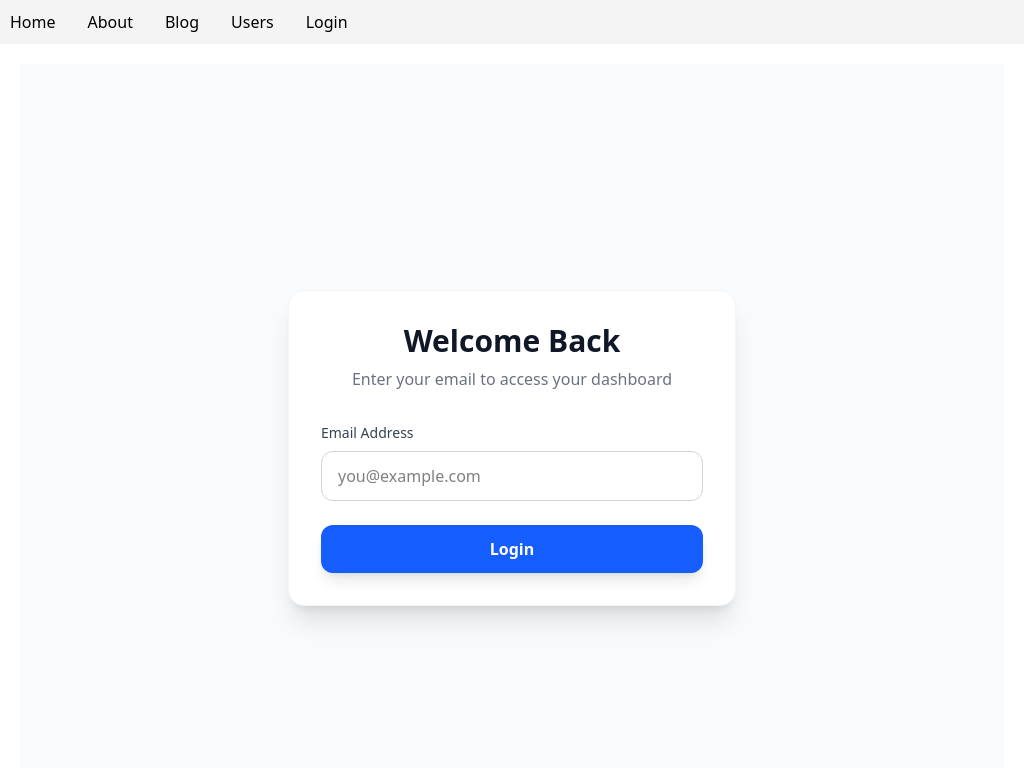
Scenario: should log in successfully and show dynamic welcome message
Step 1. Type "bashar@bmDragon.com" into the field labelled "Email Address" → (512, 476), box x1=321 y1=451 x2=703 y2=501
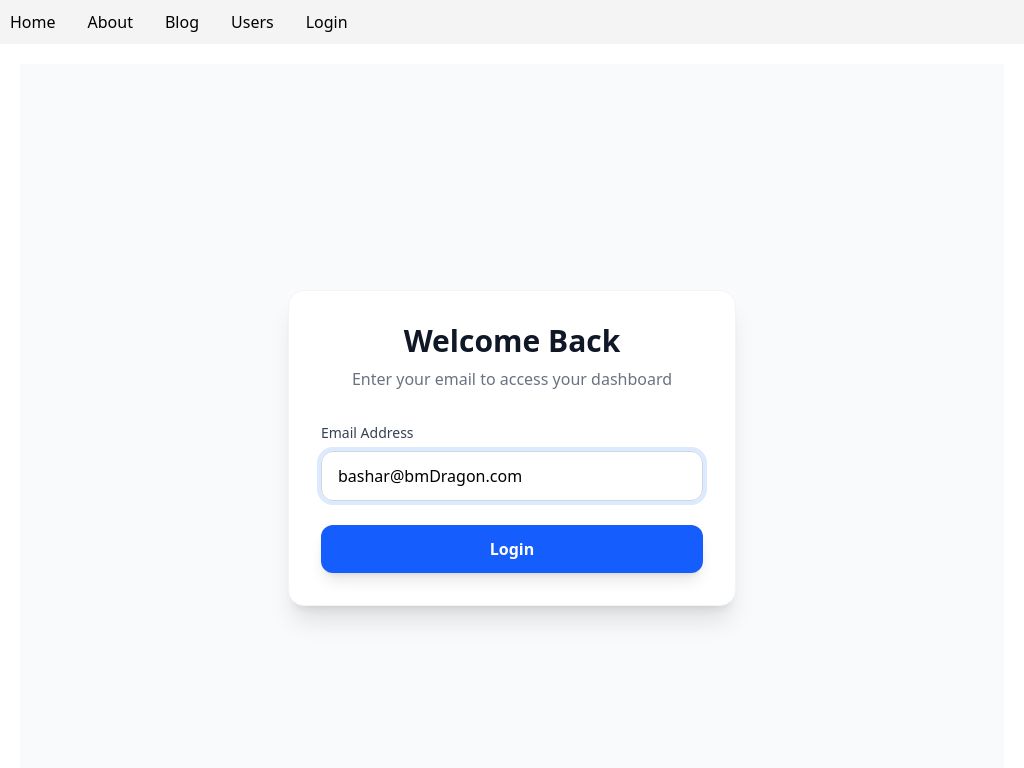
Step 2. Click the button "Login" → (512, 549), box x1=321 y1=525 x2=703 y2=573
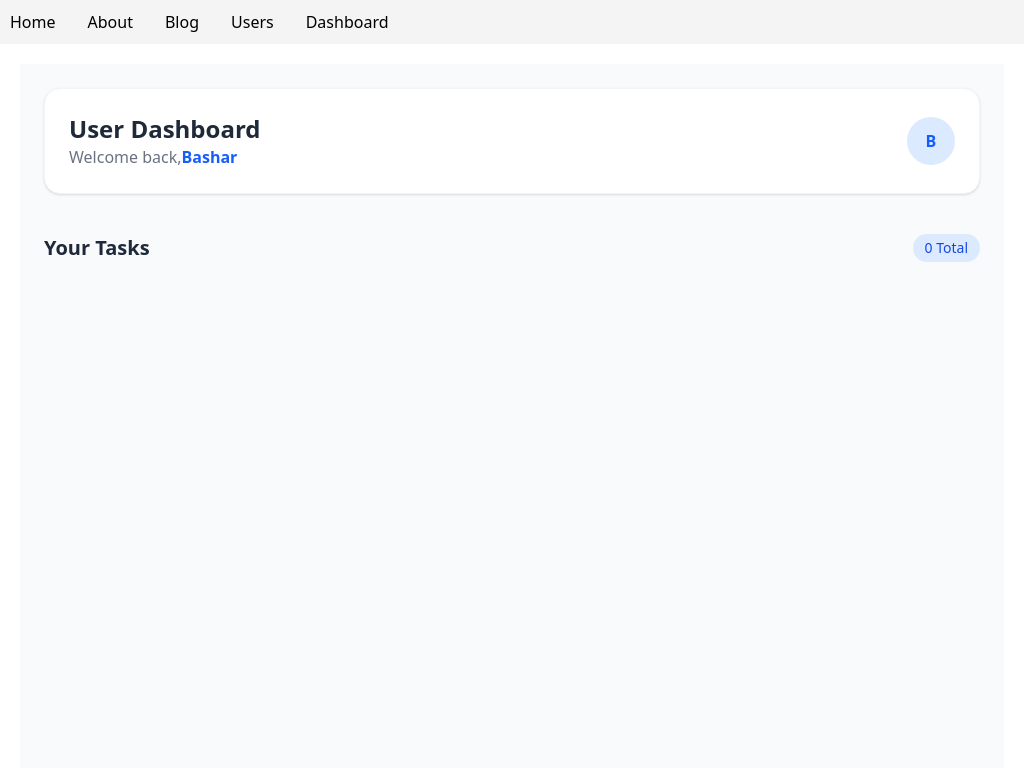
Expected: the heading "Welcome back,Bashar" is shown, x1=69 y1=145 x2=260 y2=169
